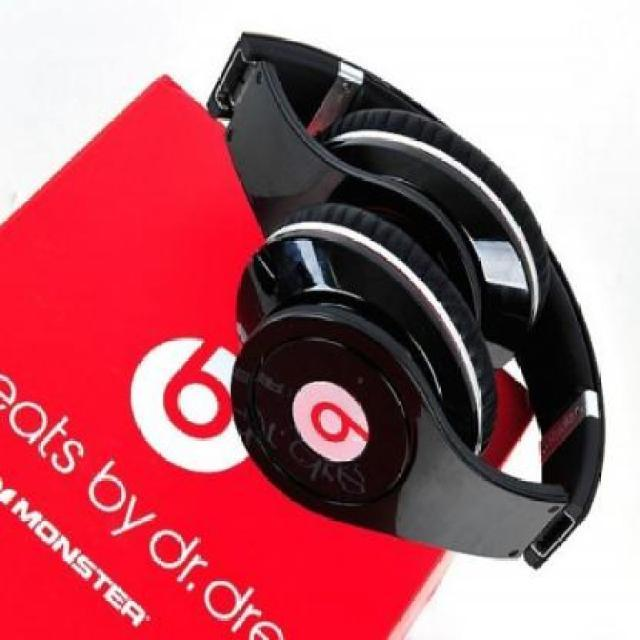earphone: (193, 30, 608, 569)
